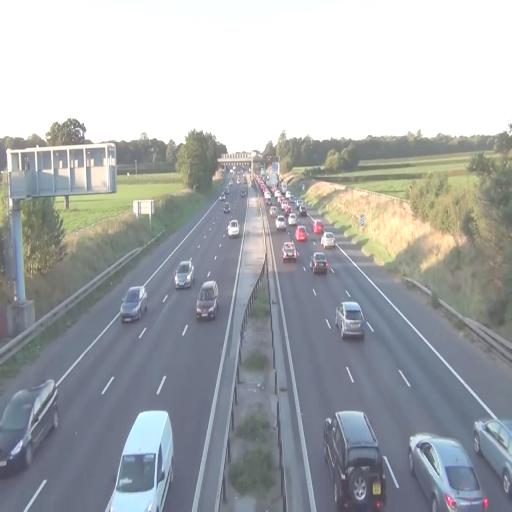vehicle: (106, 409, 174, 512), (323, 408, 385, 509), (408, 433, 489, 510), (0, 378, 59, 476), (472, 417, 512, 500), (338, 300, 364, 340), (195, 280, 219, 322), (121, 285, 147, 322), (174, 260, 195, 288), (311, 252, 329, 276), (282, 241, 298, 264), (321, 230, 336, 250), (227, 218, 240, 238), (294, 226, 308, 244), (276, 214, 286, 230)
